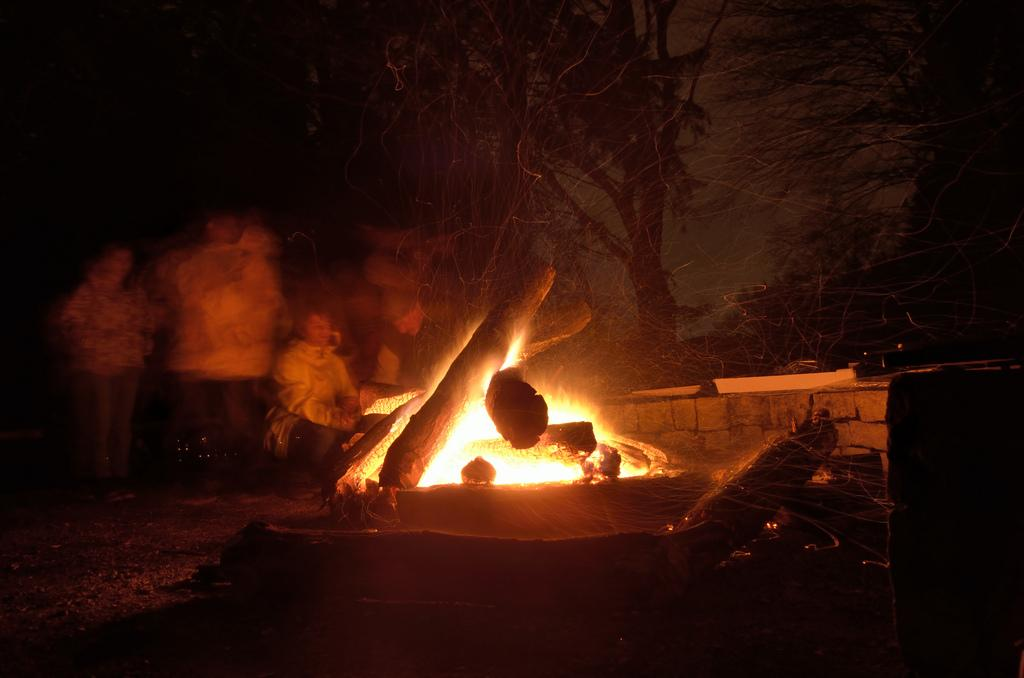fire: (448, 402, 503, 487), (512, 452, 587, 487)
